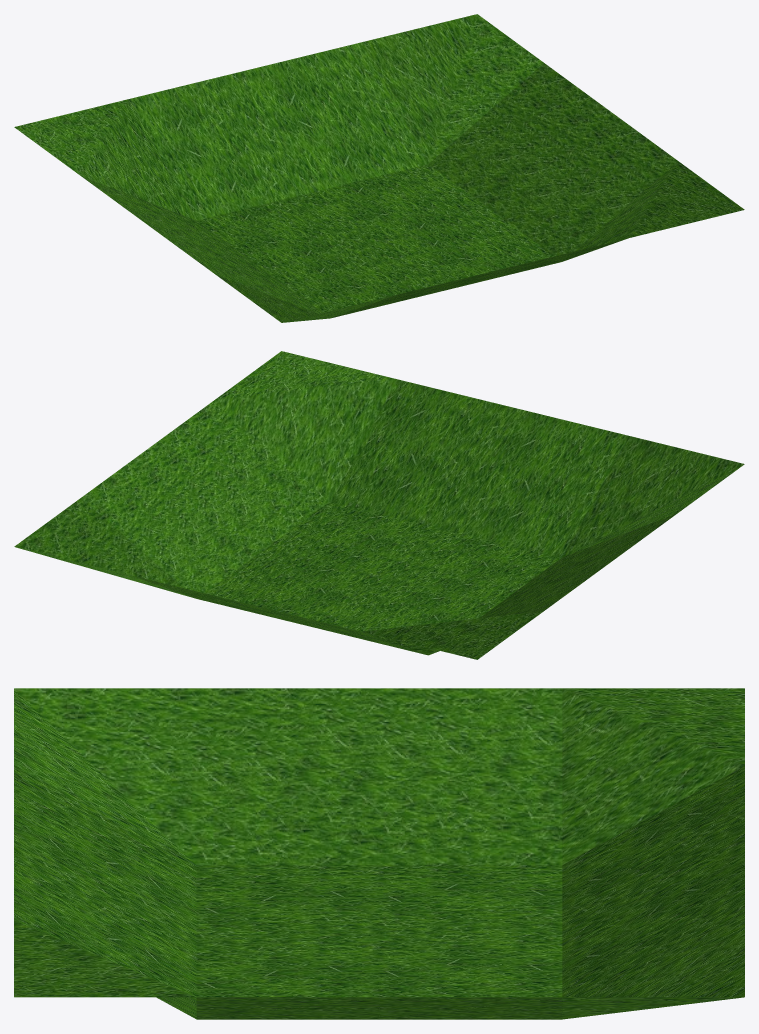
Rendered from slope.gltf.
3 renders of one model, top to bottom at view 1: azimuth 30°, elevation 25°; view 2: azimuth 150°, elevation 25°; view 3: azimuth 270°, elevation 25°, orthographic. The views are drawn at different scales.
Parts seen in each view (by area): view 1: Plane; view 2: Plane; view 3: Plane.
Boxes of the visible parts, box(x1,y1,x2,y2) form: Plane: box(14, 14, 744, 322); Plane: box(14, 351, 744, 659); Plane: box(14, 688, 744, 1019).
Size of what is drawn, in the model's own units: 20 by 3 by 20.
Materials: 1 (1 with a texture image).
